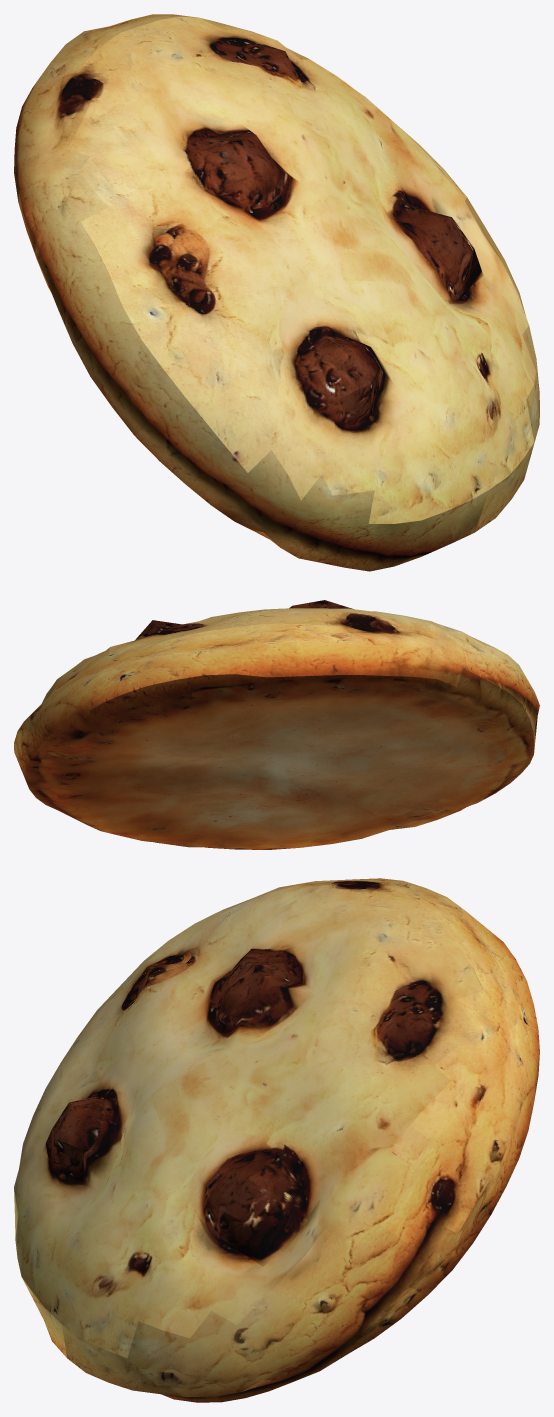
Rendered from cookie.glb.
3 renders of one model, top to bottom at view 1: azimuth 30°, elevation 25°; view 2: azimuth 150°, elevation 25°; view 3: azimuth 270°, elevation 25°, orthographic. The views are drawn at different scales.
Visible parts, largest first — view 1: Cookie_Cookie_0; view 2: Cookie_Cookie_0; view 3: Cookie_Cookie_0.
Part boxes in pixels (x1,y1,x2,y2): Cookie_Cookie_0: (14, 14, 539, 571); Cookie_Cookie_0: (14, 600, 539, 849); Cookie_Cookie_0: (14, 878, 539, 1402).
Bounding box in the file's own units: 6.81 × 5.39 × 6.47.
Materials: 1 (1 with a texture image).
